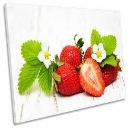strawberry: (49, 59, 86, 95), (78, 58, 105, 97), (60, 44, 83, 74), (101, 53, 119, 86)
